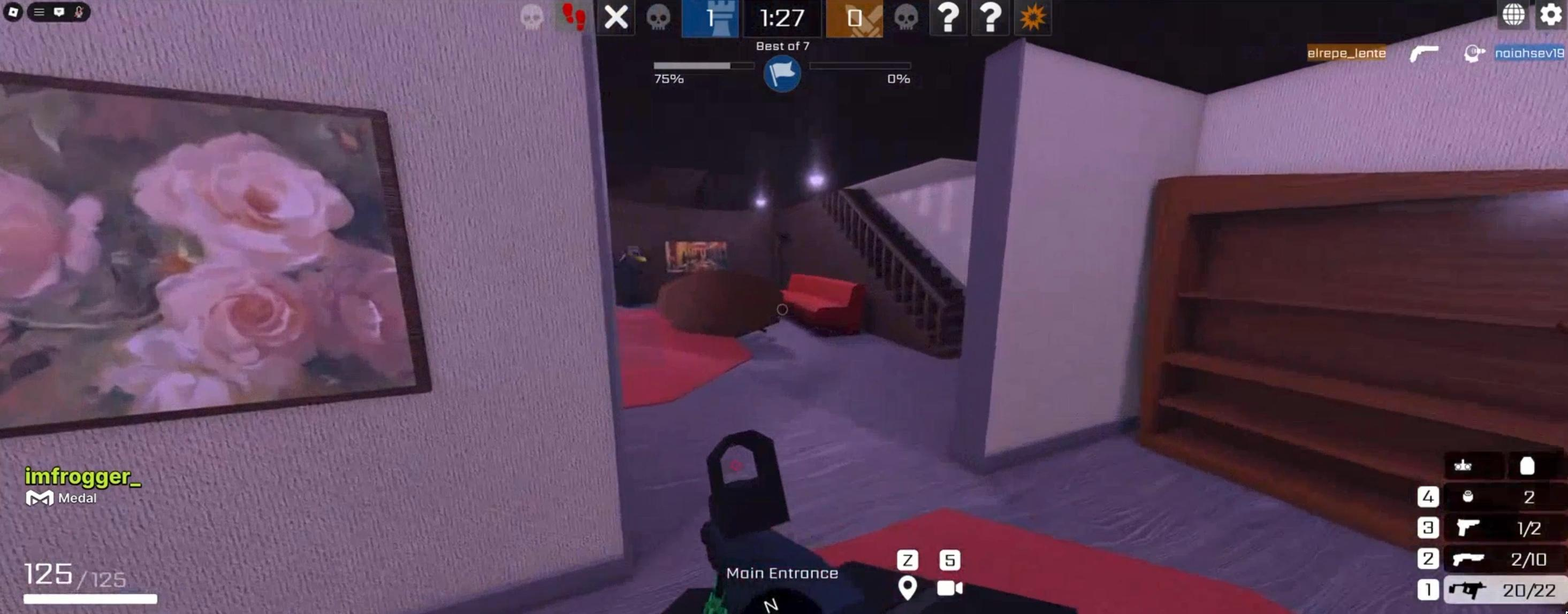enemy: (603, 235, 659, 308)
